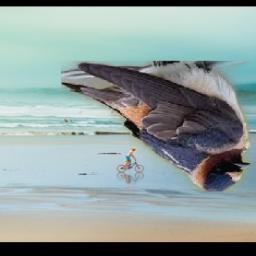Swallow: (61, 61, 251, 192)
